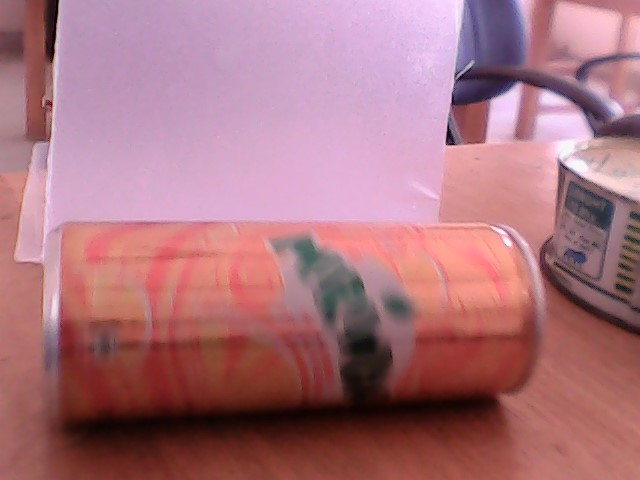Metal: (18, 208, 580, 409)
